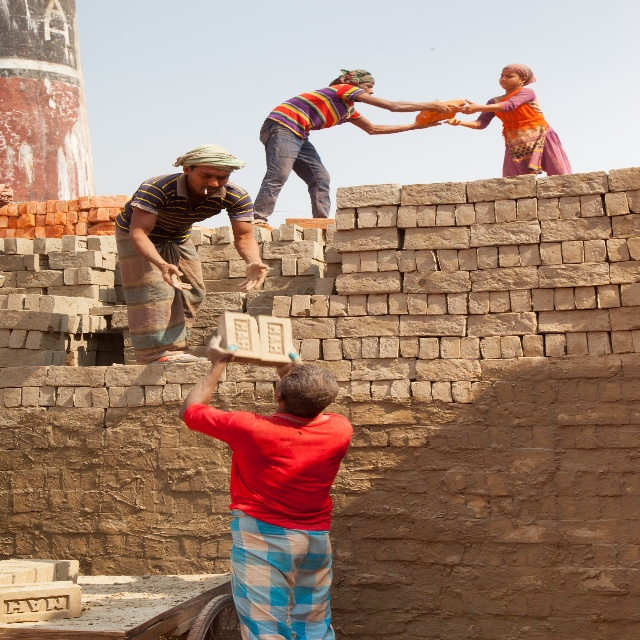Sin_guantes: (207, 332, 236, 374), (158, 260, 191, 293), (238, 265, 268, 297), (434, 97, 459, 115), (457, 97, 478, 114), (415, 119, 441, 129), (443, 116, 461, 128)
